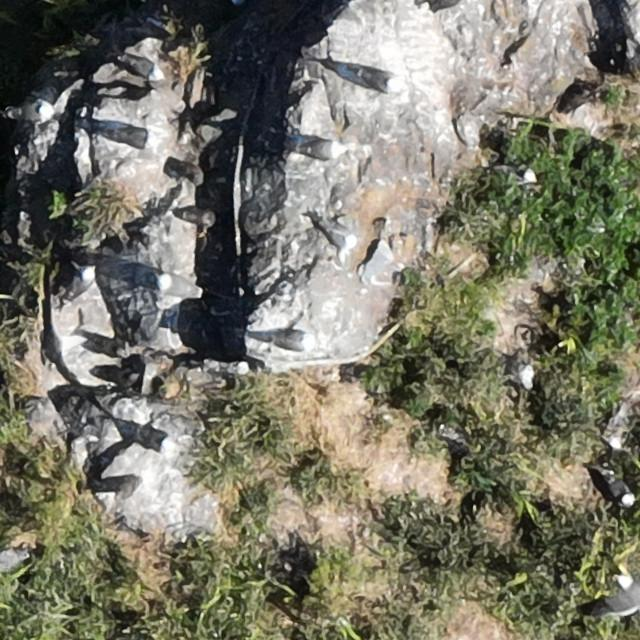F: (610, 574, 639, 621)
umineko: (121, 420, 176, 458), (153, 275, 214, 308), (350, 64, 408, 94), (261, 328, 321, 355), (359, 239, 394, 285), (315, 215, 359, 247), (8, 101, 54, 125), (115, 129, 160, 148), (297, 141, 346, 158), (512, 153, 540, 181), (611, 476, 635, 506), (126, 58, 155, 78), (70, 270, 92, 296), (1, 549, 27, 570), (518, 364, 533, 389), (618, 487, 634, 508)
